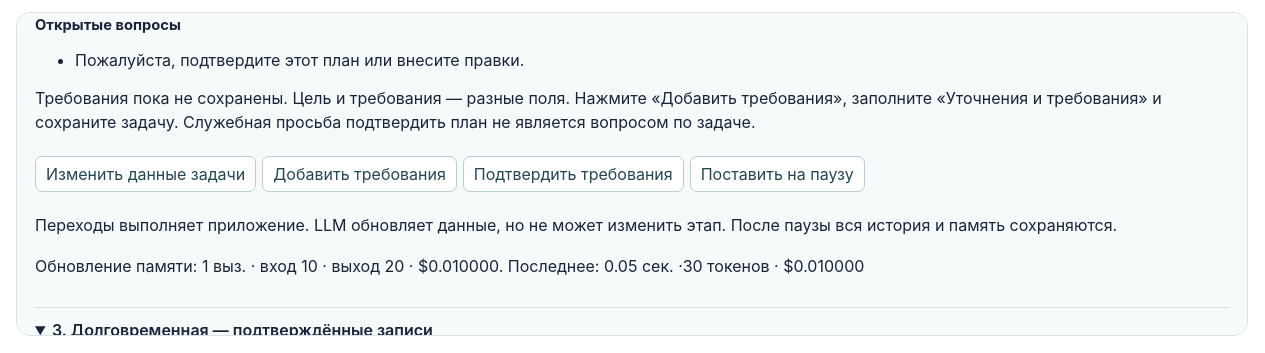
Scenario: explicit memory layers › explains missing requirements and opens their editor without silently inventing them
(page scrolled)
Expected: the text "Требования пока не сохранены" is shown, [35, 88, 1162, 132]
What coordinates should you click on to do the following:
click the button "Добавить требования"
I would click on:
 (360, 174)
Its box is [262, 156, 457, 192].
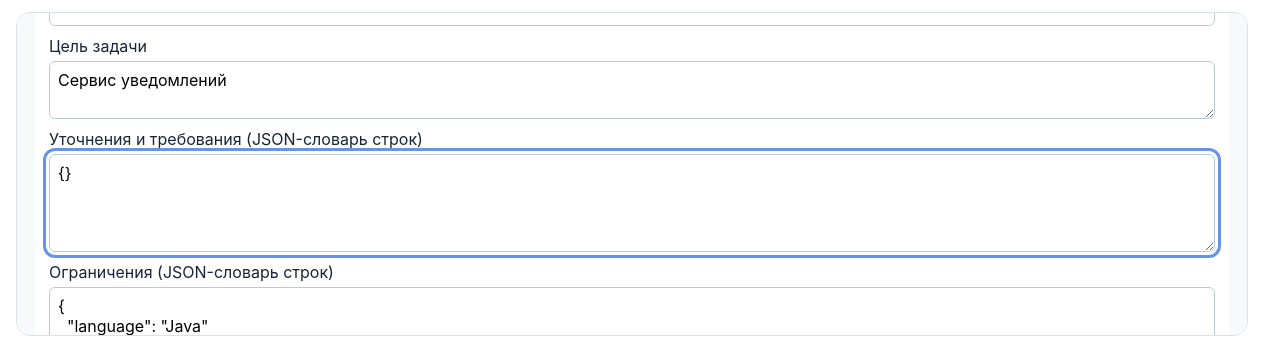
Result: the text box labelled "Уточнения и требования (JSON-словарь строк)" holds "{}" at [49, 154, 1215, 252]
